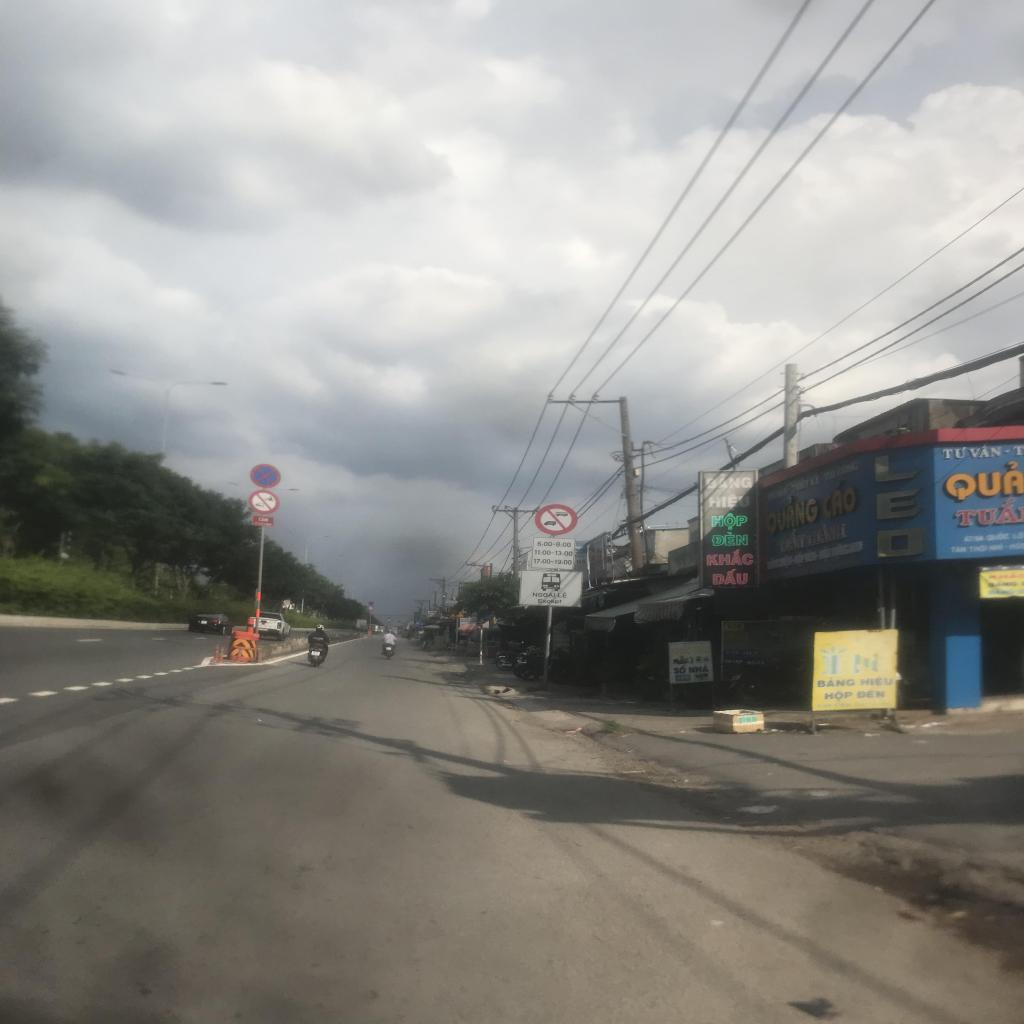cam_dung_xe_va_do_xe: (251, 464, 280, 488)
cam_o_to_tai_va_xe_khach: (535, 504, 578, 535)
cam_xe_2_banh_va_xe_3_banh_co_dong_co: (249, 490, 279, 514)
khac: (519, 571, 583, 607), (532, 537, 575, 570)
